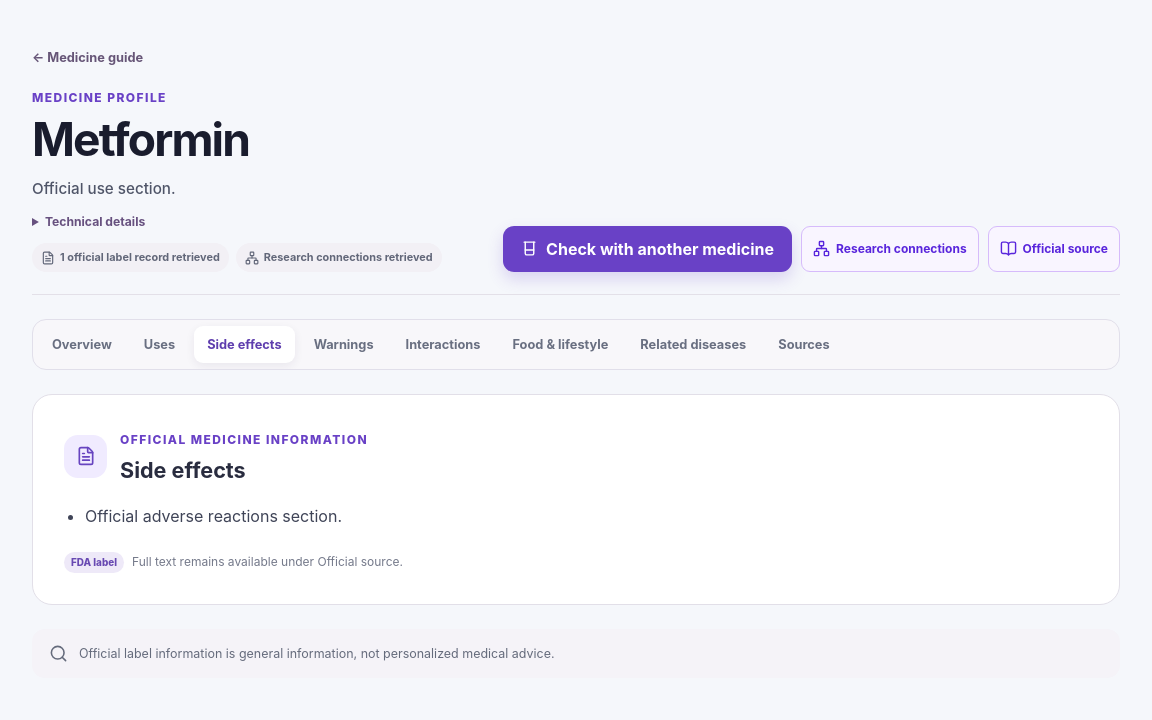
Test case: MedicineGuide › focuses side-effect and warning label sections without generating a conclusion
Check: the list item "Official adverse reactions section." is shown, box [85,506,342,526]
What coordinates should you click on to do the following:
click the link "Warnings"
I would click on:
 (344, 344)
Its box is [314,337,374,352].
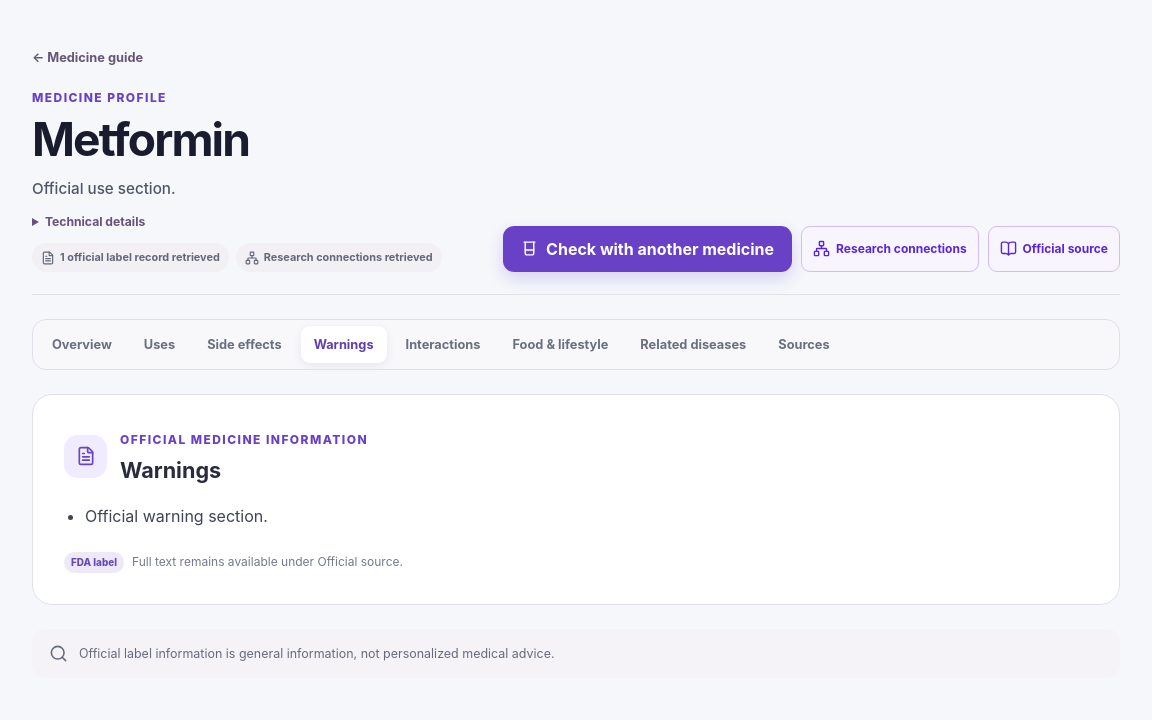
Check: the list item "Official warning section." is shown, box [85,506,268,526]
